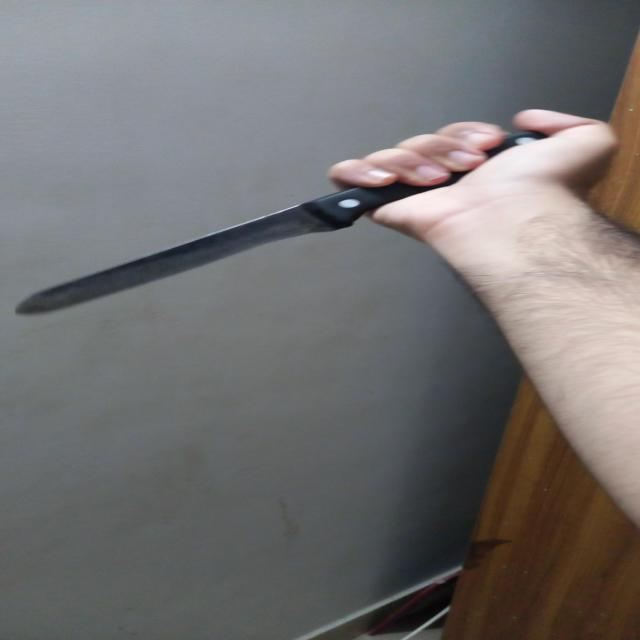faca: (14, 130, 556, 315)
